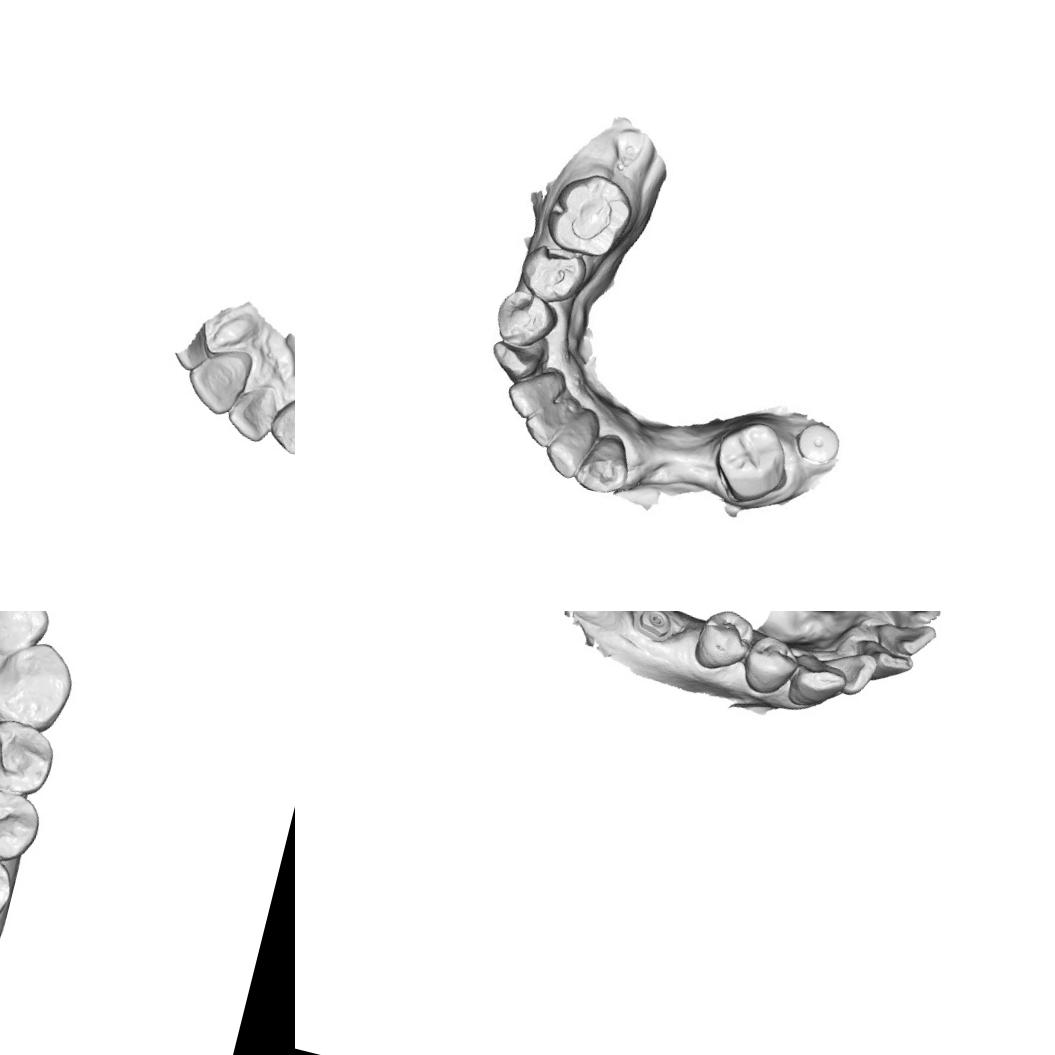canine: (0, 627, 83, 740), (783, 645, 846, 713), (487, 334, 550, 386), (263, 386, 295, 462)
implant: (790, 416, 845, 474), (626, 611, 678, 643)
incisor: (538, 404, 602, 484), (180, 350, 250, 420), (570, 426, 636, 499), (500, 361, 568, 426), (218, 378, 280, 448), (866, 614, 945, 666), (818, 643, 880, 700), (518, 389, 572, 452), (849, 637, 914, 688), (0, 611, 62, 664), (880, 611, 942, 628)
molar: (704, 412, 795, 512), (544, 168, 636, 258)
premolar: (0, 705, 65, 807), (687, 611, 761, 680), (518, 241, 591, 308), (0, 773, 49, 868), (492, 286, 562, 350), (737, 630, 800, 701)
